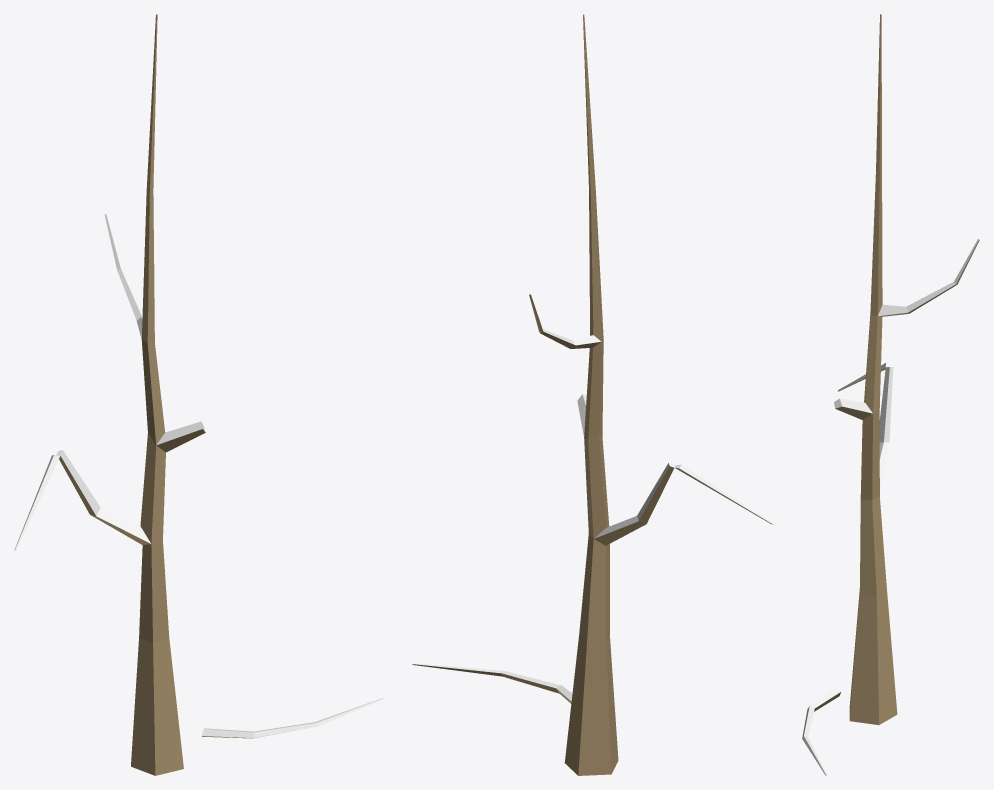
File: Random_Tree_NoLeaves_crk_m_Snow_BT_05.fbx
3 renders of one model, left to right at view 1: azimuth 30°, elevation 25°; view 2: azimuth 150°, elevation 25°; view 3: azimuth 270°, elevation 25°, orthographic. The views are drawn at different scales.
Visible parts, largest first — view 1: Random_Tree_NoLeaves_crk_m_Snow_BT_05; view 2: Random_Tree_NoLeaves_crk_m_Snow_BT_05; view 3: Random_Tree_NoLeaves_crk_m_Snow_BT_05.
Part boxes in pixels (x1,y1,x2,y2): Random_Tree_NoLeaves_crk_m_Snow_BT_05: (14,14,383,775); Random_Tree_NoLeaves_crk_m_Snow_BT_05: (412,14,773,775); Random_Tree_NoLeaves_crk_m_Snow_BT_05: (802,14,979,775).
Size of the model in its own units: 451 by 885 by 203.
